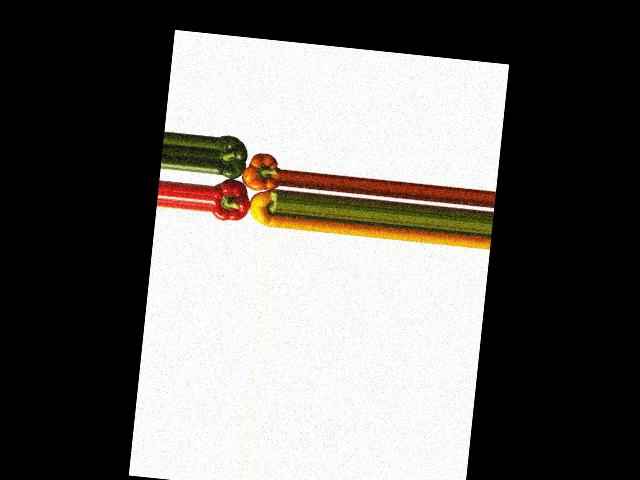bell_pepper: (245, 184, 279, 228)
